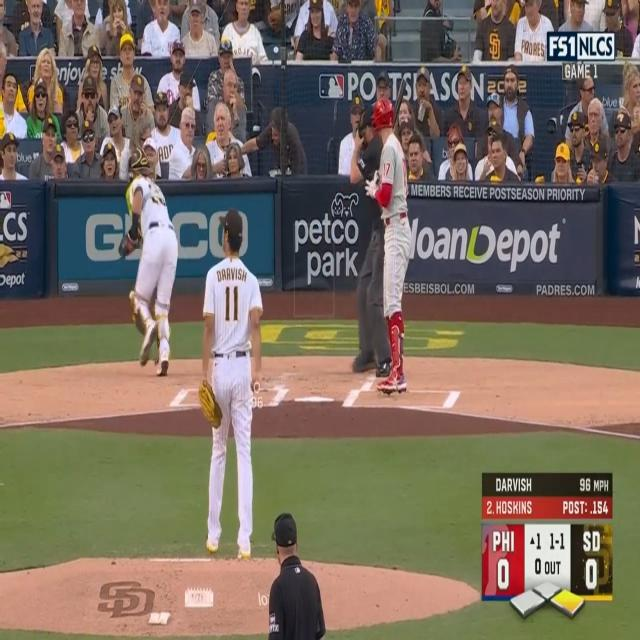baseball: (129, 290, 134, 300)
